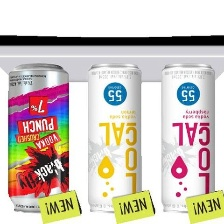can: (79, 59, 150, 217), (4, 57, 74, 217), (157, 58, 219, 217)
